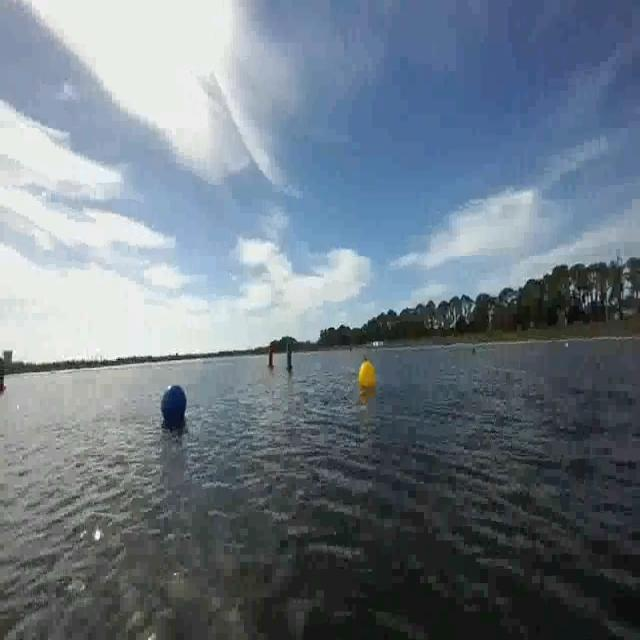blue-buoy: (162, 385, 186, 426)
green-column-buoy: (283, 339, 294, 371)
red-column-buoy: (268, 343, 278, 371)
yellow-buoy: (358, 358, 376, 388)
